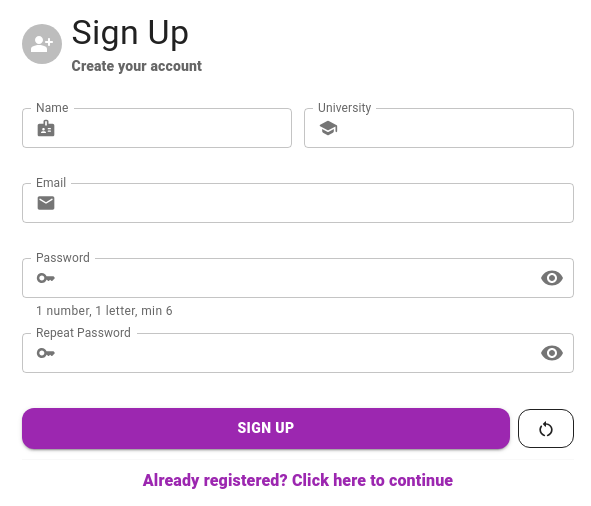
Test case: SignUpForm › restarts values and validation feedback
Type "1" into the field labelled "Name" at {"x": 178, "y": 128}, box [64, 108, 292, 148]
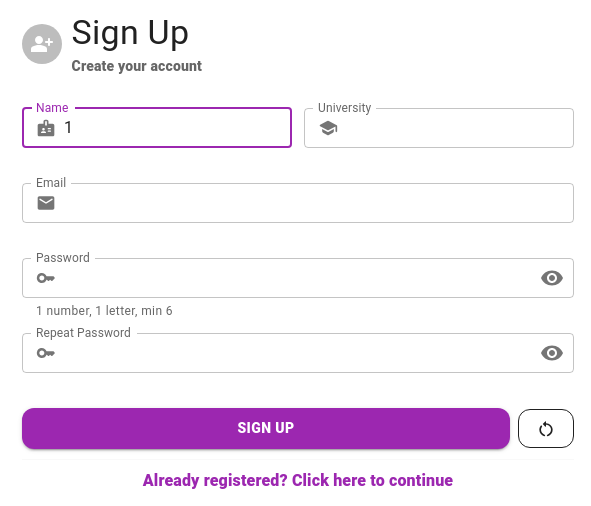
Click the button "Sign Up" at {"x": 266, "y": 429}, box [22, 408, 510, 449]
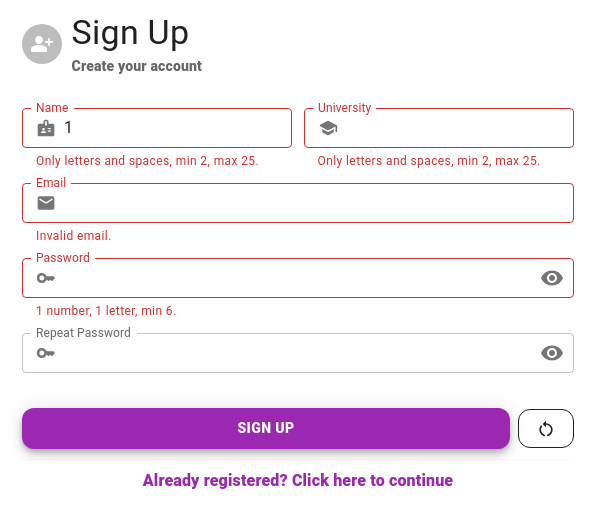
Expected: the text "Only letters and spaces, min 2, max 25." is shown 2 times, [36, 152, 278, 172]; [318, 152, 560, 172]
Click the button titled "Restart" at {"x": 546, "y": 429}, box [518, 409, 574, 448]
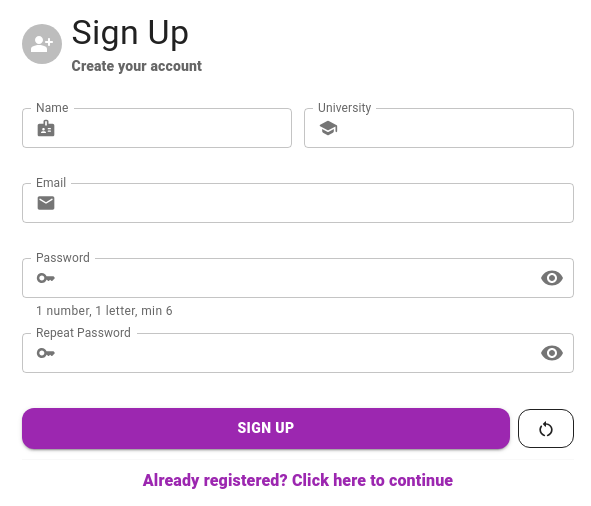
Expected: the field labelled "Name" is empty, [64, 108, 292, 148]
Expected: the text "Only letters and spaces, min 2, max 25." is gone
